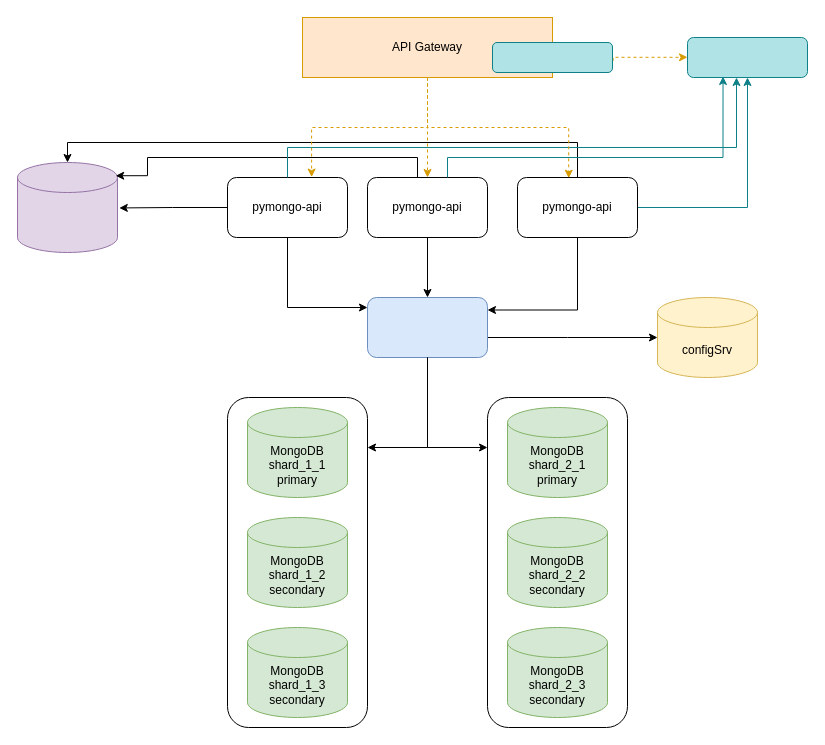
Some shapes in this 825 by 745 pixel diagram are drawn without their labels. Each missing label, with the centre of its shape:
"Consul" belongs at point (747, 57).
"consul_kv" belongs at point (552, 57).
"mongos" belongs at point (427, 327).
"Redis (cache)" belongs at point (67, 207).
